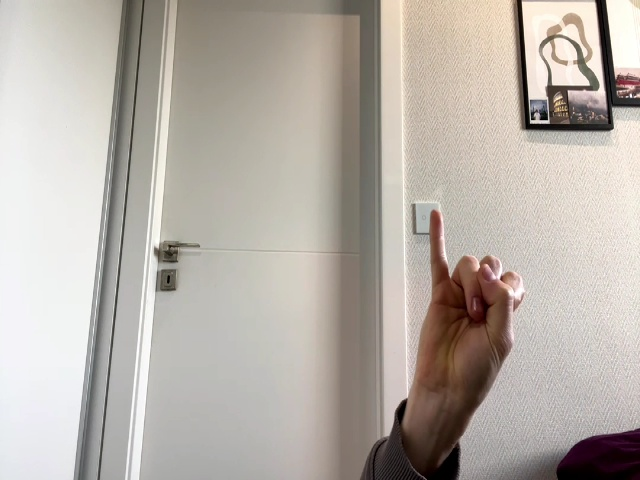I: (415, 210, 526, 406)
